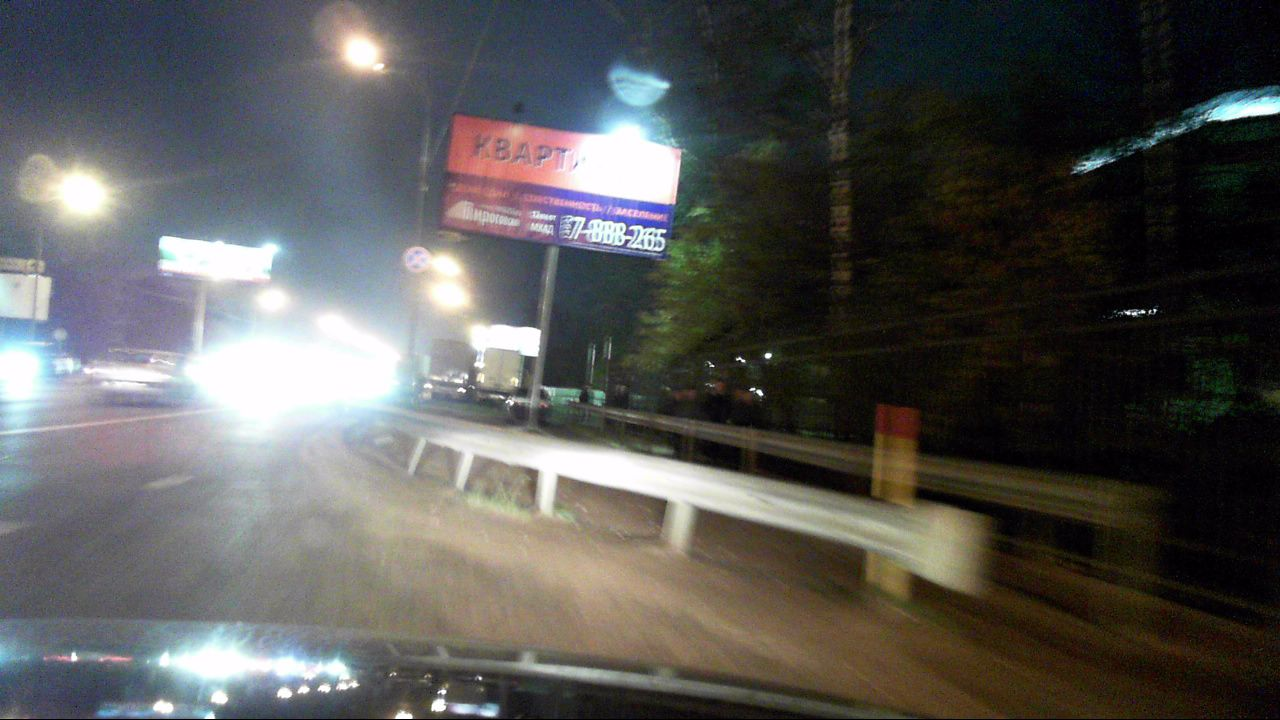No Parking: (405, 246, 431, 273)
